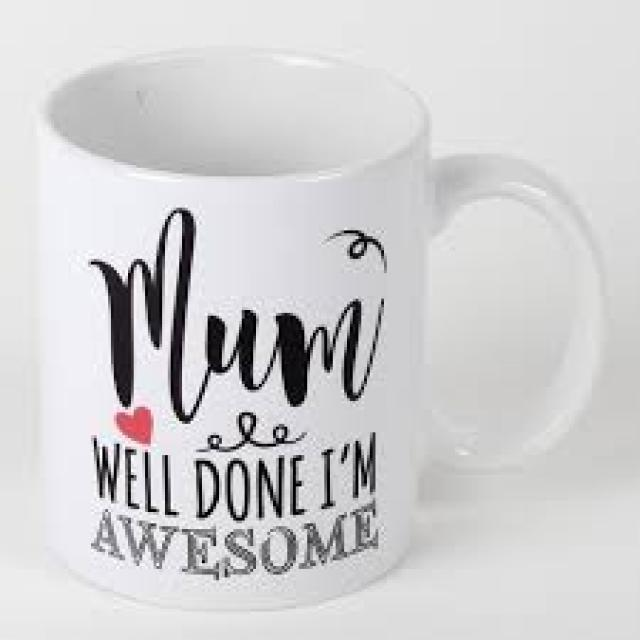taza: (18, 31, 616, 618)
